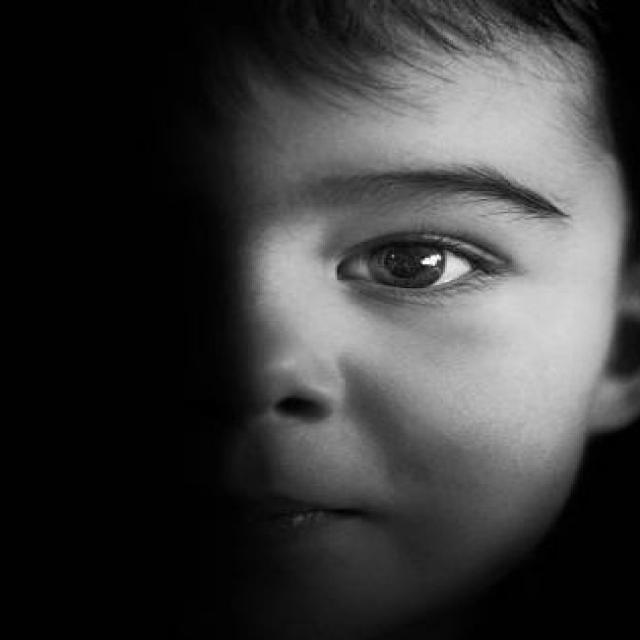Anxiety: (4, 29, 618, 638)
